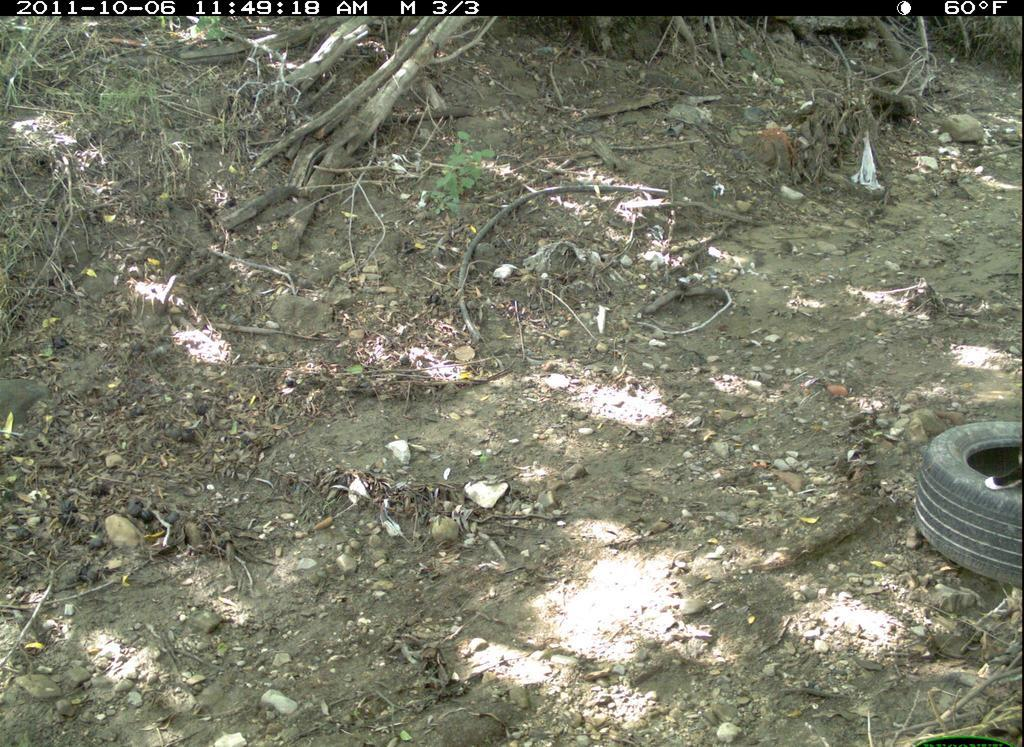cat: (981, 423, 1023, 509)
